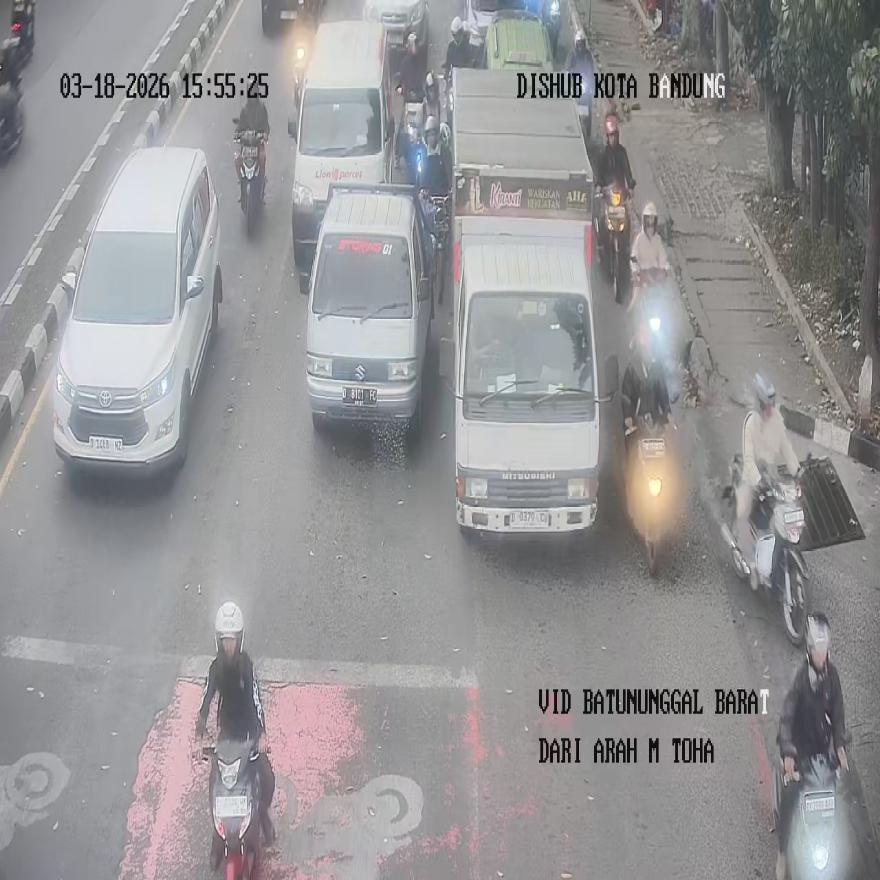Motor: (52, 147, 223, 470), (303, 184, 434, 432), (287, 19, 396, 268)
Truk: (202, 671, 274, 879), (730, 456, 807, 645), (774, 750, 850, 879), (624, 417, 668, 574), (626, 253, 675, 386), (598, 181, 631, 302), (564, 30, 594, 140), (236, 131, 266, 237), (0, 37, 25, 160), (396, 90, 426, 183), (10, 0, 34, 68), (542, 0, 561, 60), (293, 45, 308, 114)
